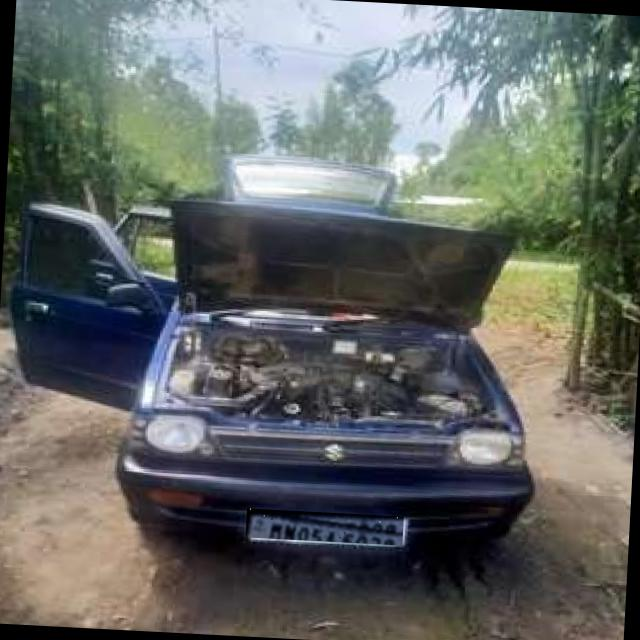Plate: (247, 510, 405, 547)
